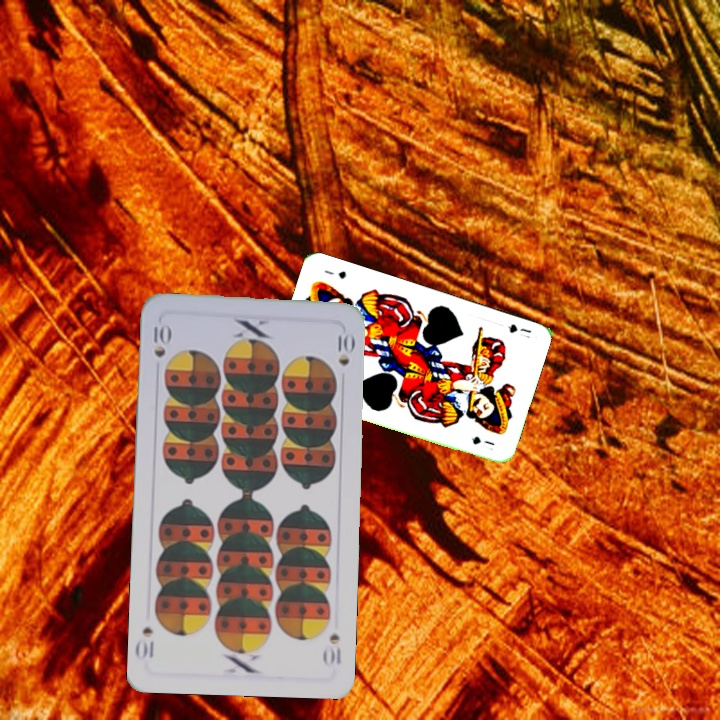GU: (504, 320, 534, 341)
S10: (320, 629, 343, 670), (149, 320, 172, 360)
